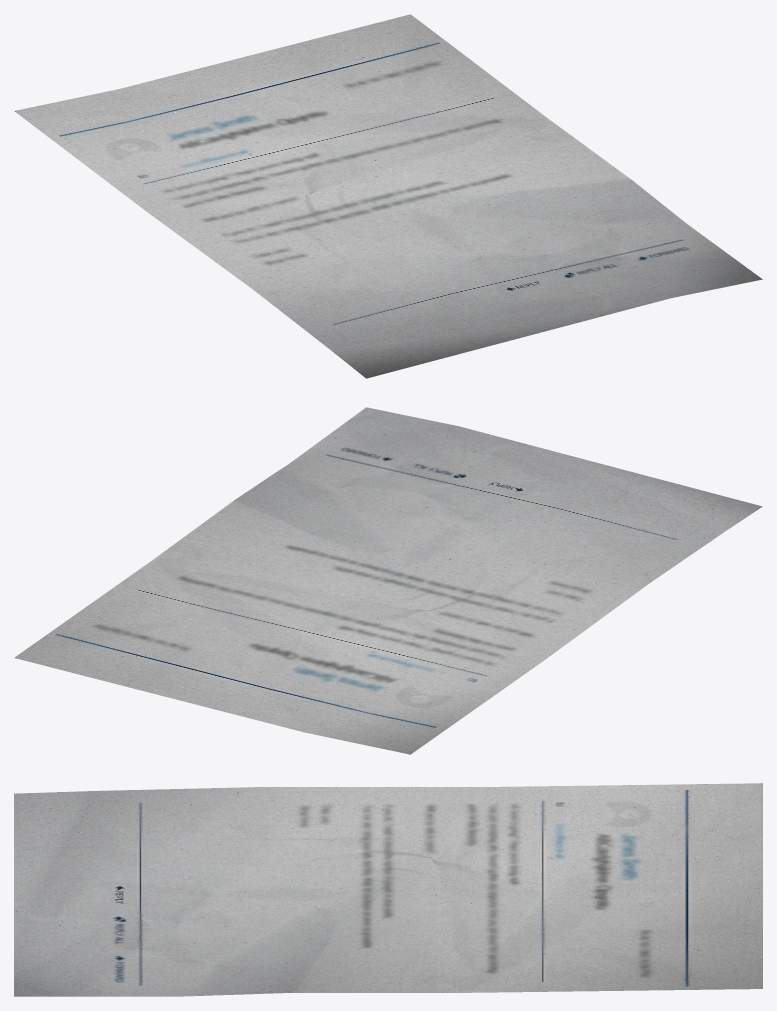
Rendered from 012_nestlcokout01a.fbx.
3 renders of one model, top to bottom at view 1: azimuth 30°, elevation 25°; view 2: azimuth 150°, elevation 25°; view 3: azimuth 270°, elevation 25°, orthographic. The views are drawn at different scales.
Visible parts, largest first — view 1: LOD_1_Group_0_Sub_1__sm74_012_NestLcokOut01A_A_Mat__Env_defa; view 2: LOD_1_Group_0_Sub_1__sm74_012_NestLcokOut01A_A_Mat__Env_defa; view 3: LOD_1_Group_0_Sub_1__sm74_012_NestLcokOut01A_A_Mat__Env_defa.
Part boxes in pixels (x1,y1,x2,y2): LOD_1_Group_0_Sub_1__sm74_012_NestLcokOut01A_A_Mat__Env_defa: (14,14,762,378); LOD_1_Group_0_Sub_1__sm74_012_NestLcokOut01A_A_Mat__Env_defa: (14,407,762,754); LOD_1_Group_0_Sub_1__sm74_012_NestLcokOut01A_A_Mat__Env_defa: (14,783,762,996).
Size of the model in its own units: 0.2275 by 0.00533 by 0.35.
